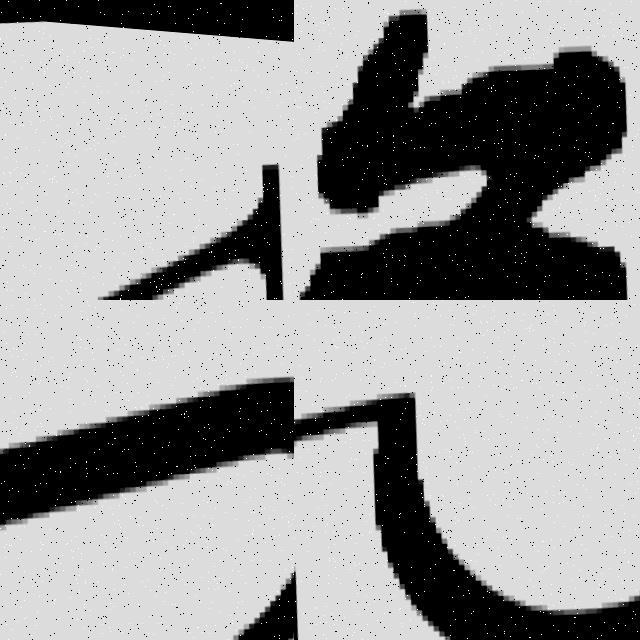5: (294, 300, 640, 640)
U: (0, 300, 294, 640)
W: (295, 34, 640, 300)
X: (0, 106, 294, 300)
